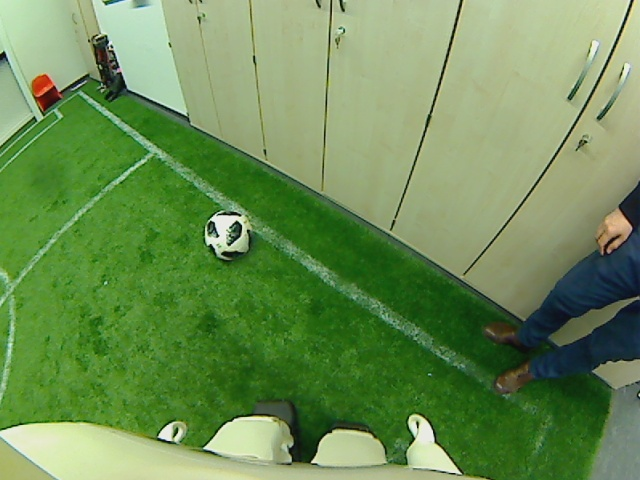ball: (203, 209, 253, 258)
